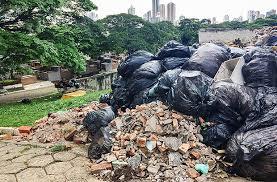rubble: (106, 102, 222, 182)
